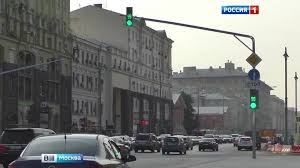tl: (248, 88, 260, 110), (125, 5, 134, 26)
